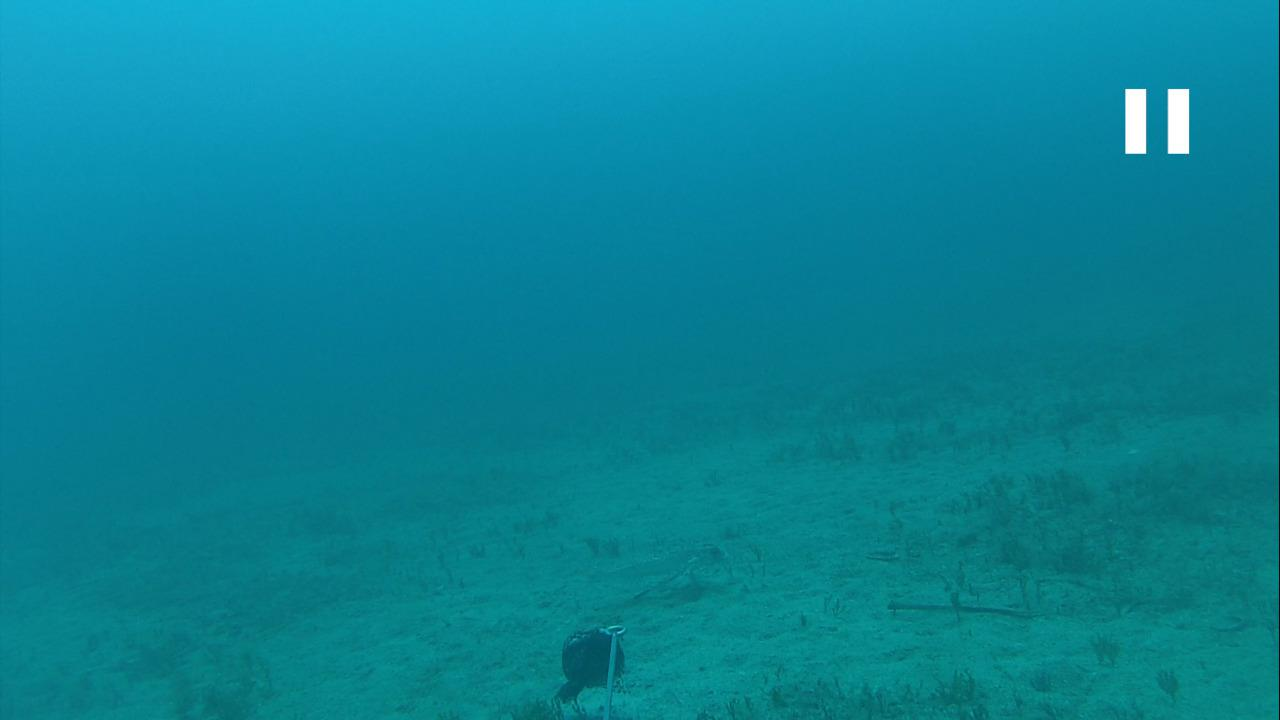dactylopterus: (586, 534, 742, 609)
